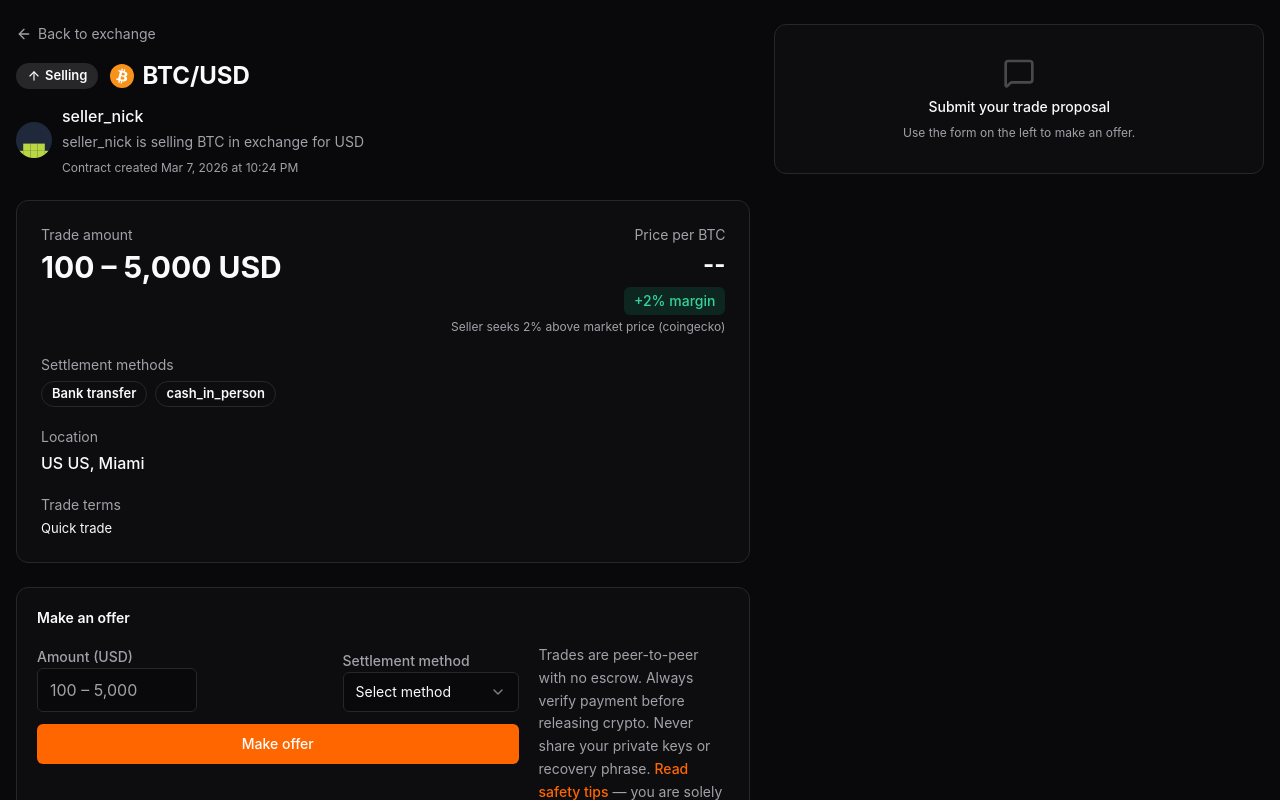
Test: OfferDetailPage — Make Offer form validation › shows error when submitting without amount
Step 1. Click the button "Make offer" → click(278, 744), box 37,724 -> 518,764
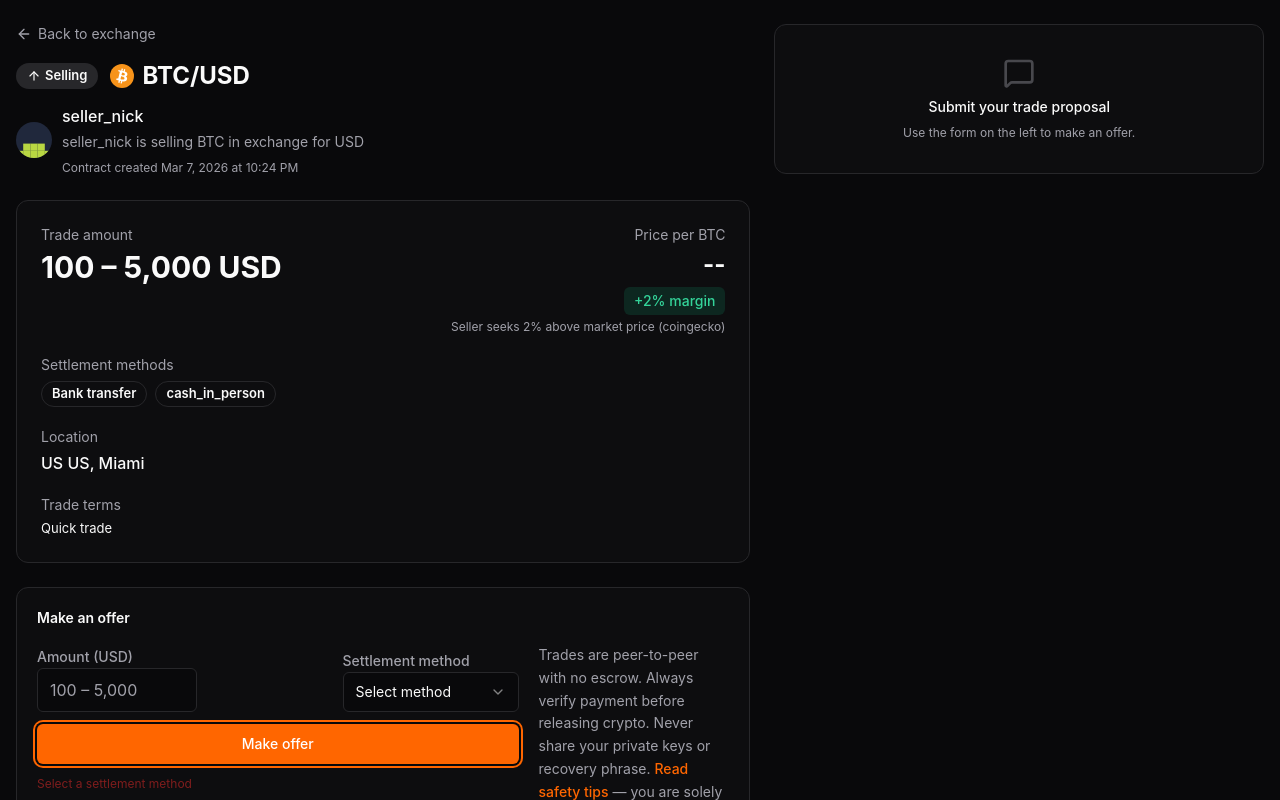
Check: the text "Select a settlement method" is shown, box 37,776 -> 192,791
